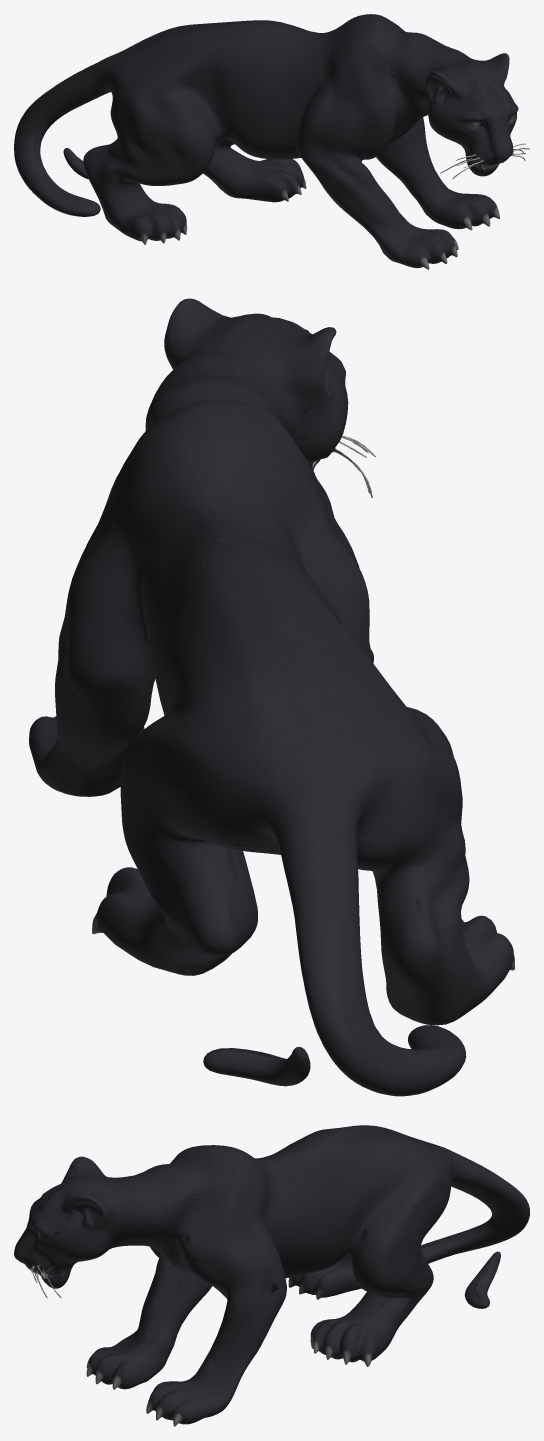
File: ee_panther.glb
3 views of the same model, one above another, from view 1: azimuth 30°, elevation 25°; view 2: azimuth 150°, elevation 25°; view 3: azimuth 270°, elevation 25° (orthographic). The views are drawn at different scales.
Bounding box in the file's own units: 1.55 × 0.9378 × 1.91.
1 material, 1 textured.
